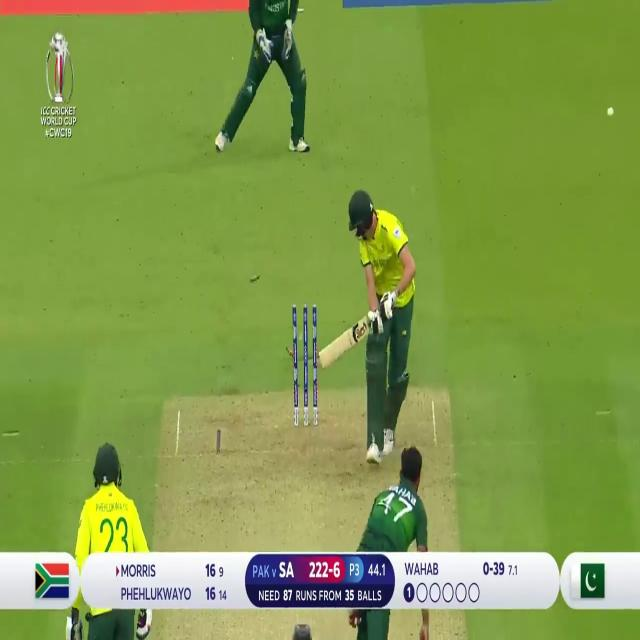ball: (602, 95, 620, 127)
